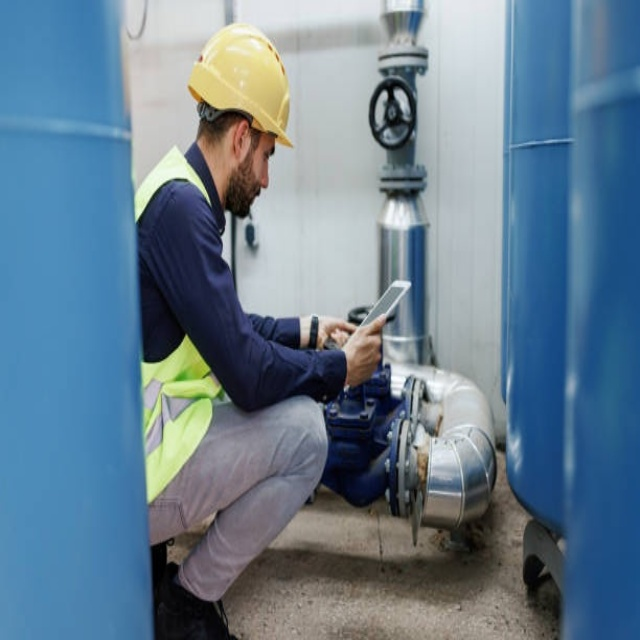Sin_gafas: (248, 140, 280, 160)
Sin_guantes: (345, 311, 390, 387), (309, 313, 361, 352)
Sin_mascara: (235, 177, 271, 220)
